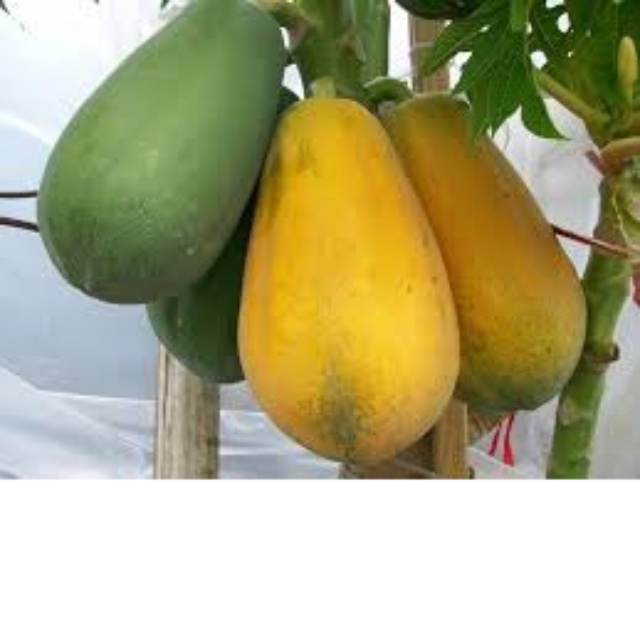du_du: (237, 83, 457, 463), (375, 80, 595, 407), (34, 12, 290, 292)
